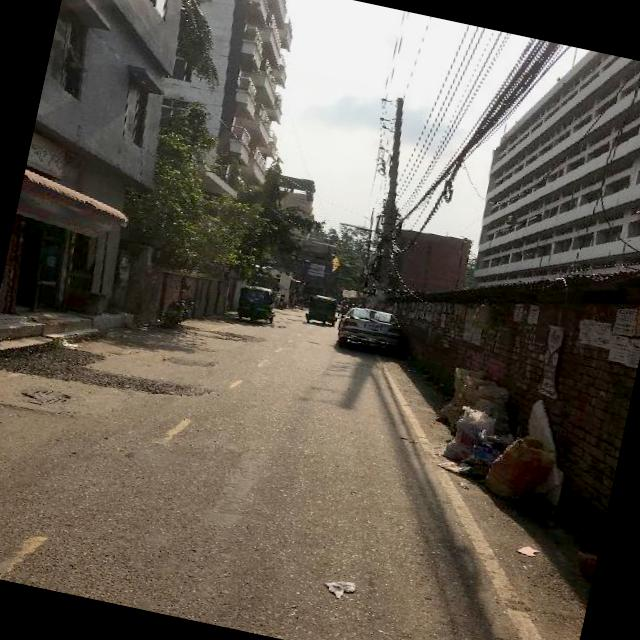car: (341, 306, 406, 351)
motorcycle: (158, 280, 202, 334), (234, 283, 280, 328), (306, 292, 342, 328), (338, 298, 351, 318), (302, 292, 312, 310)
